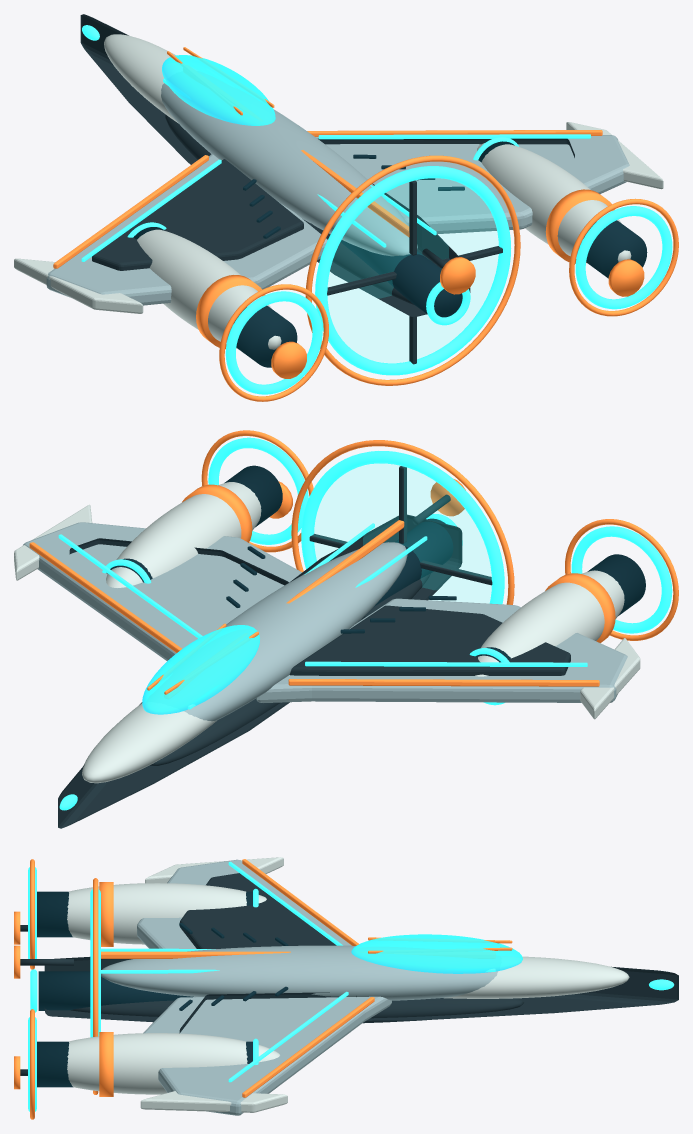
File: orbitgo-warp-lancer.glb
The picture shows the model from 3 angles, top to bottom: view 1: azimuth 30°, elevation 25°; view 2: azimuth 150°, elevation 25°; view 3: azimuth 270°, elevation 25°; orthographic projection. The views are drawn at different scales.
Visible parts, largest first — view 1: CentralWarpField, UpperFlowShell, FlowWing_1, WingInset_-1, FlowWing_-1, CentralWarpRing, WarpNacelleShell_-1, WarpNacelleShell_1, CockpitCanopy, LongCore, CentralWarpTrim, CentralImpulseDrive (+24 smaller); view 2: FlowWing_1, CentralWarpField, UpperFlowShell, WingInset_-1, FlowWing_-1, WarpNacelleShell_1, WarpNacelleShell_-1, CockpitCanopy, LongCore, PearlNoseShell, CentralWarpRing, CentralWarpTrim (+20 smaller); view 3: UpperFlowShell, FlowWing_1, WarpNacelleShell_1, WarpNacelleShell_-1, WingInset_-1, LongCore, CockpitCanopy, PearlNoseShell, FlowWing_-1, LowerFlowShell, CentralImpulseDrive, NeedleWingTip_1 (+16 smaller).
Boxes of the visible parts, <box> form: CentralWarpField: <box>328,179,497,362</box>; UpperFlowShell: <box>161,83,417,256</box>; FlowWing_1: <box>315,135,629,233</box>; WingInset_-1: <box>92,159,303,270</box>; FlowWing_-1: <box>46,154,327,305</box>; CentralWarpRing: <box>315,166,511,375</box>; WarpNacelleShell_-1: <box>137,229,281,349</box>; WarpNacelleShell_1: <box>477,143,631,262</box>; CockpitCanopy: <box>162,55,275,125</box>; LongCore: <box>80,14,470,316</box>; CentralWarpTrim: <box>305,155,520,385</box>; CentralImpulseDrive: <box>340,240,462,317</box>; FlowWing_1: <box>23,522,301,660</box>; CentralWarpField: <box>312,464,490,602</box>; UpperFlowShell: <box>142,542,407,721</box>; WingInset_-1: <box>289,605,570,675</box>; FlowWing_-1: <box>256,598,627,702</box>; WarpNacelleShell_1: <box>106,482,261,587</box>; WarpNacelleShell_-1: <box>475,570,624,676</box>; CockpitCanopy: <box>142,625,259,714</box>; LongCore: <box>58,514,462,828</box>; PearlNoseShell: <box>82,703,216,783</box>; CentralWarpRing: <box>301,451,504,604</box>; CentralWarpTrim: <box>291,440,514,604</box>; UpperFlowShell: <box>101,945,498,1000</box>; FlowWing_1: <box>143,996,391,1115</box>; WarpNacelleShell_1: <box>67,1033,279,1094</box>; WarpNacelleShell_-1: <box>67,883,266,944</box>; WingInset_-1: <box>179,873,336,948</box>; LongCore: <box>44,957,678,1022</box>; CockpitCanopy: <box>351,934,522,973</box>; PearlNoseShell: <box>444,956,629,998</box>; FlowWing_-1: <box>137,859,351,948</box>; LowerFlowShell: <box>70,998,523,1023</box>; CentralImpulseDrive: <box>38,971,193,1010</box>; NeedleWingTip_1: <box>140,1091,287,1112</box>.
Size of the model in its own units: 9.17 by 3.4 by 10.42.
